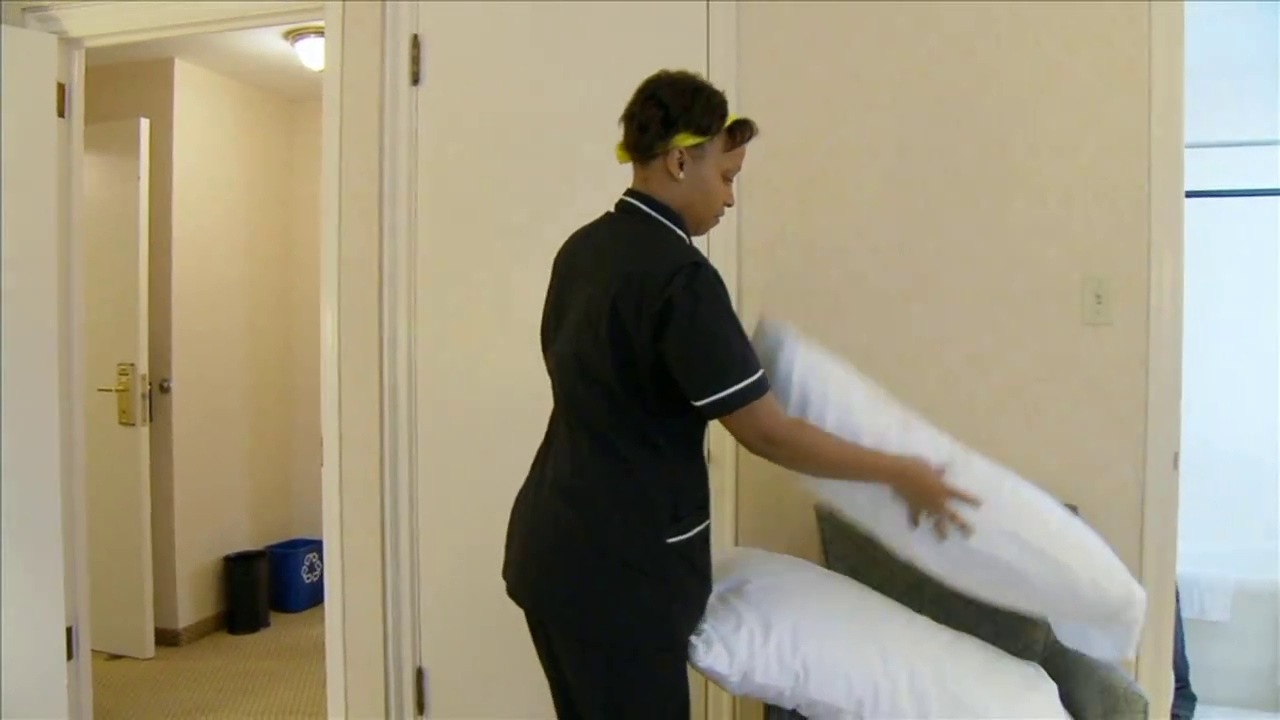person: (503, 70, 983, 720)
